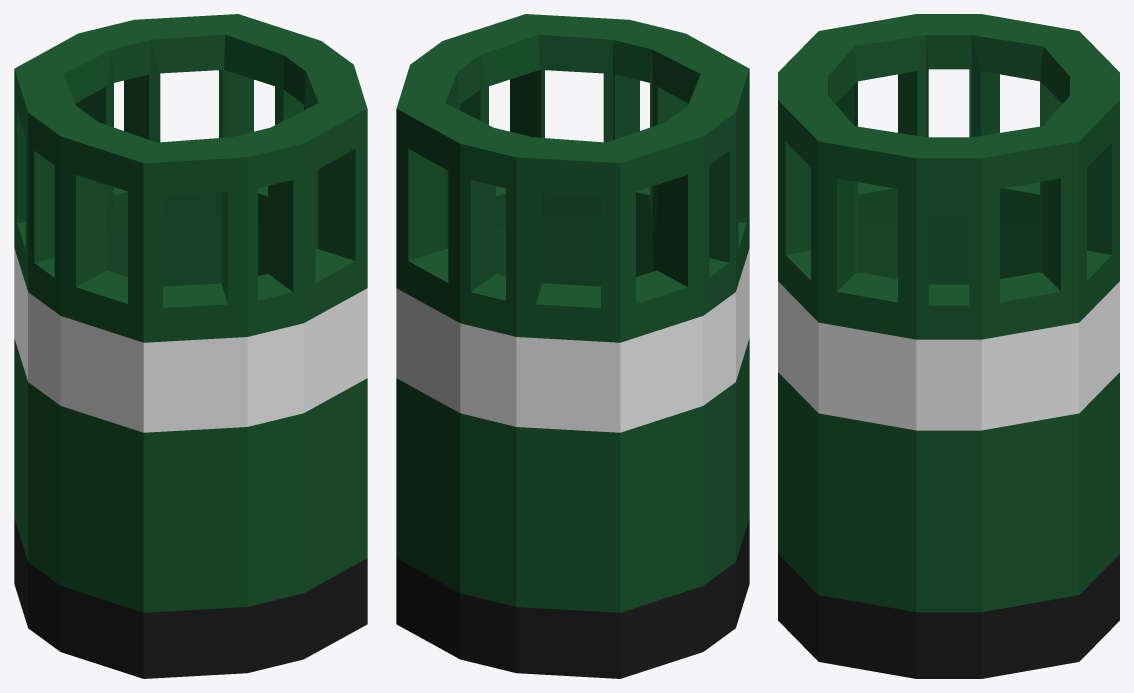
The model's file is trashcan.glb.
3 renders of one model, left to right at view 1: azimuth 30°, elevation 25°; view 2: azimuth 150°, elevation 25°; view 3: azimuth 270°, elevation 25°, orthographic.
Parts seen in each view (by area): view 1: garbagebin; view 2: garbagebin; view 3: garbagebin.
Part boxes in pixels (left/top/right/bottom): garbagebin: left=14, top=14, right=367, bottom=678; garbagebin: left=396, top=14, right=749, bottom=678; garbagebin: left=778, top=14, right=1119, bottom=678.
Size of the model in its own units: 0.8729 by 1.47 by 0.8729.
1 material, 1 textured.
